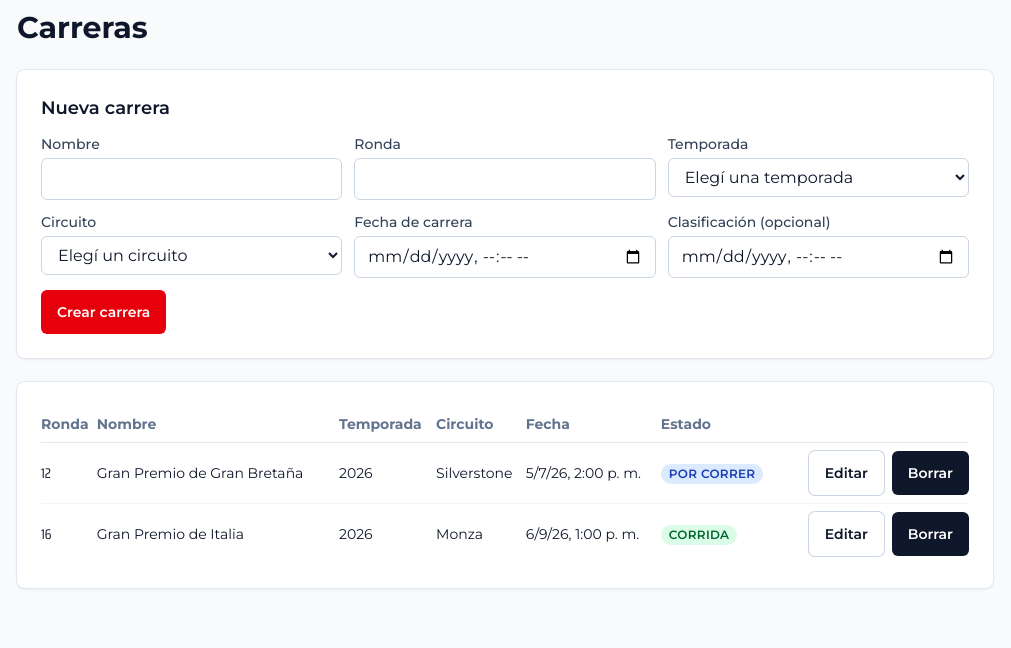
Test: RacesPage › no deja crear sin temporada ni circuito
Expected: the text "Gran Premio de Italia" is shown, [97,504,339,564]
Type "GP sin datos" into the field labelled "Nombre". click: (192, 179)
box: [41,158,342,200]
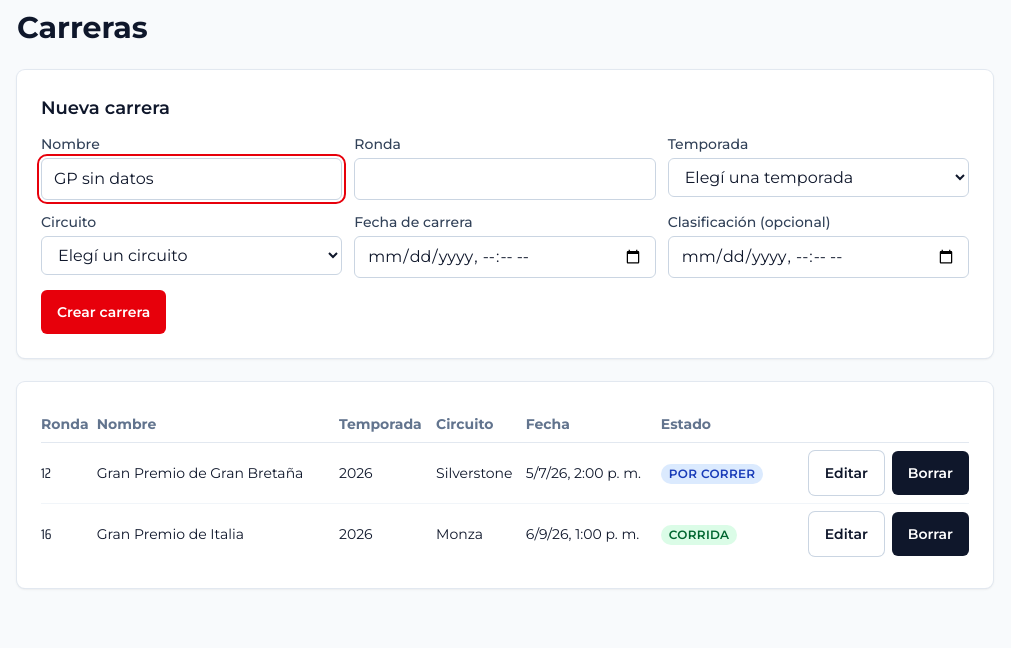
Type "1" into the number field labelled "Ronda". click: (505, 179)
box: [354,158,656,200]
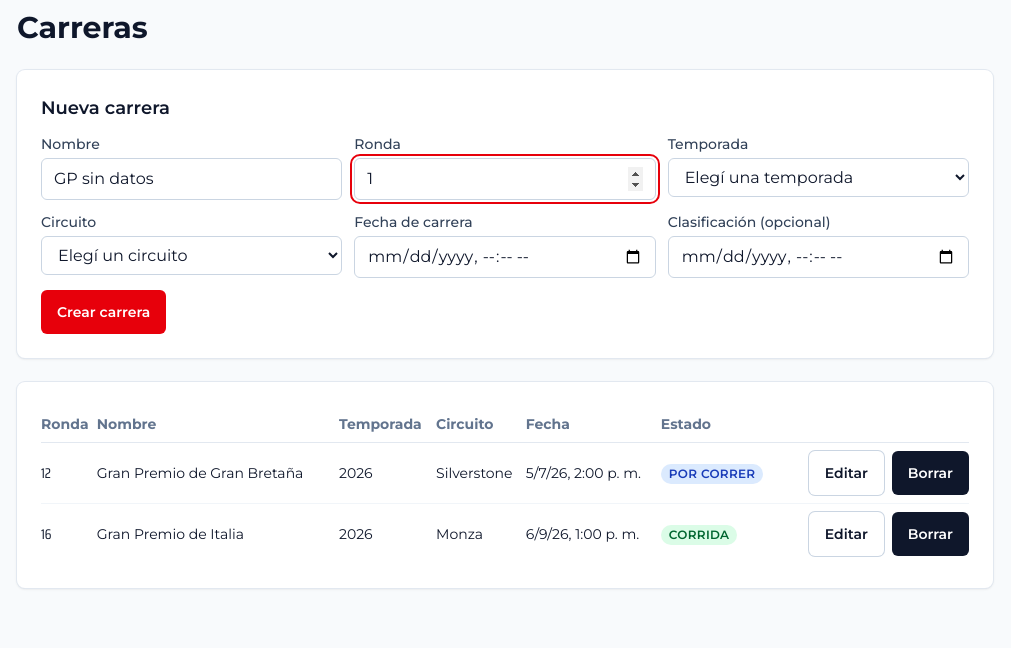
Type "2026-07-26T15:00" into the field labelled "Fecha de carrera". click: (505, 257)
box: [354,236,656,278]
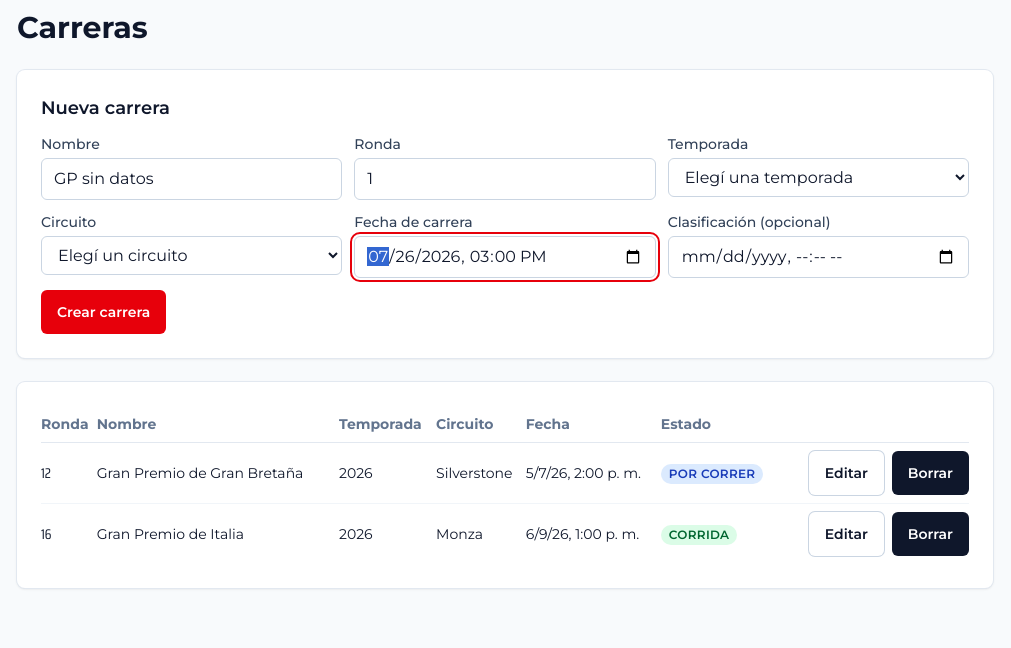
Click the button "Crear carrera". click: (104, 312)
box: [41,290,166,334]
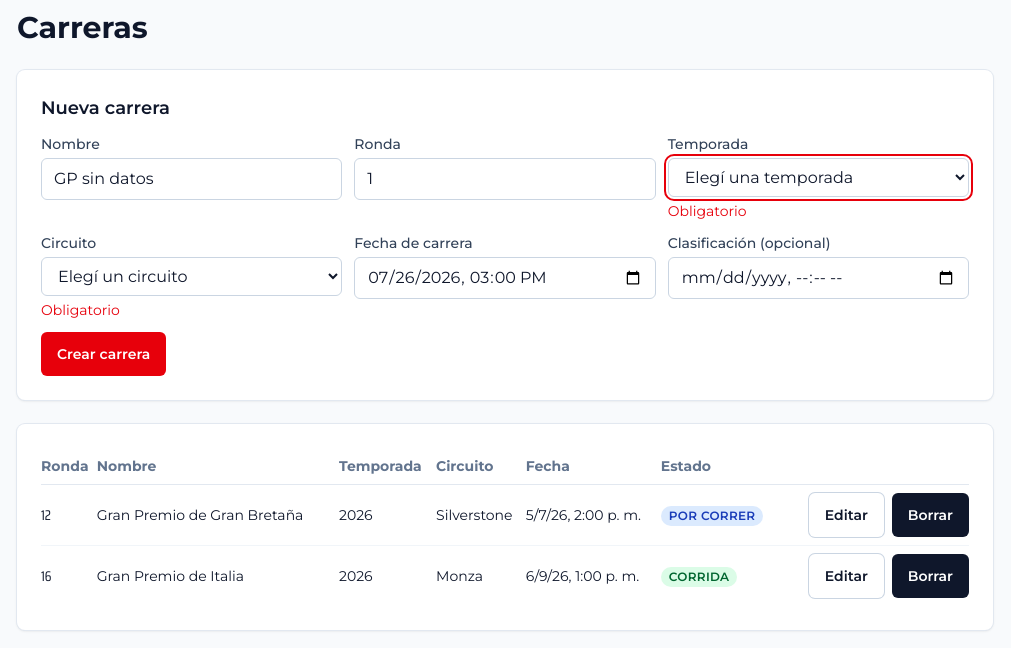
Expected: the text "Obligatorio" is shown 2 times, [668,202,747,220]; [41,301,120,319]
